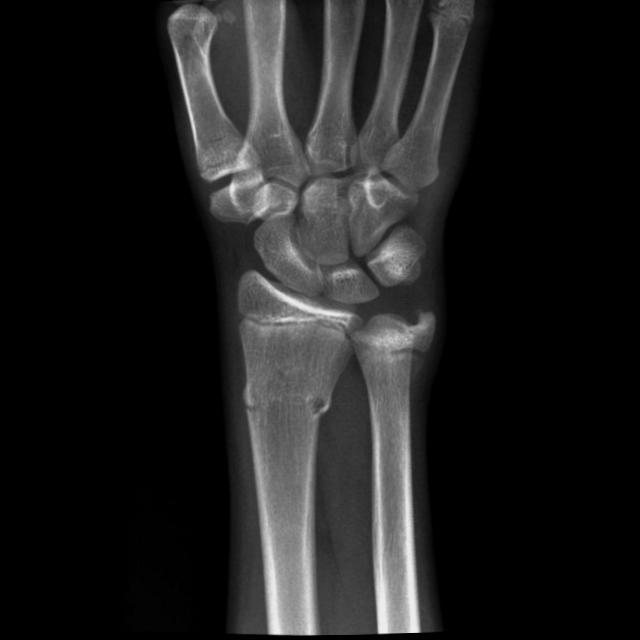Transverse Displaced: (225, 371, 359, 433)
